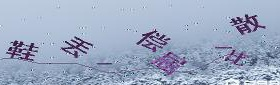chinese: (136, 29, 166, 53), (61, 35, 88, 61), (6, 38, 36, 61), (233, 14, 261, 35)
